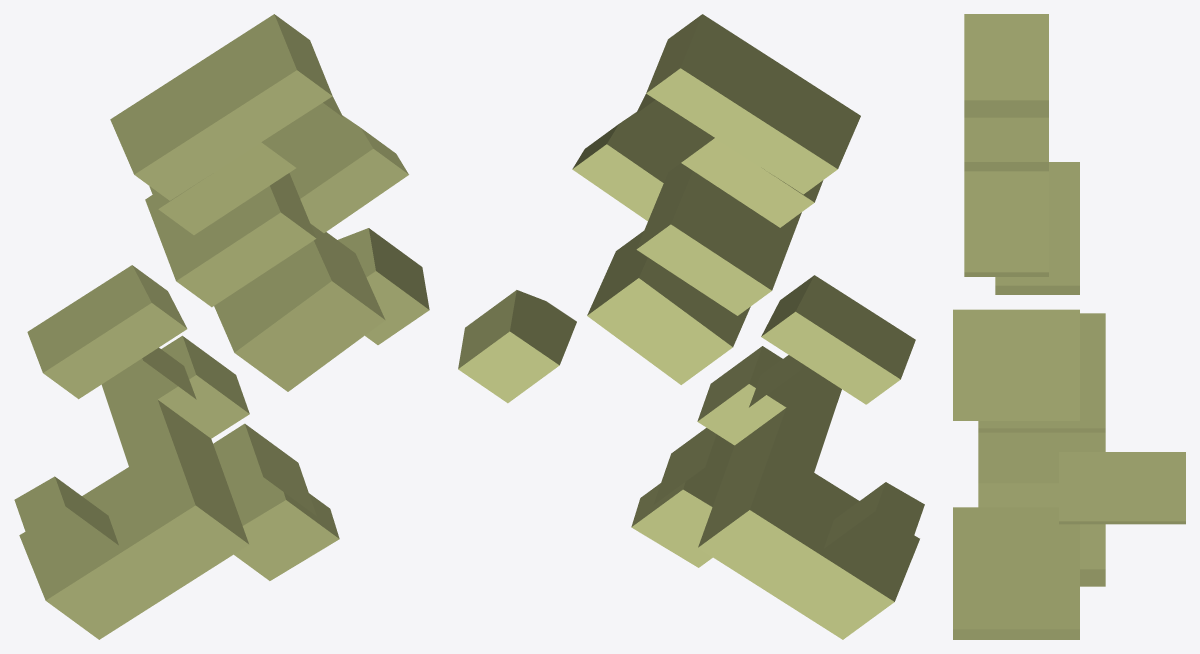
The picture shows the model from 3 angles, left to right: view 1: azimuth 30°, elevation 25°; view 2: azimuth 150°, elevation 25°; view 3: azimuth 270°, elevation 25°; orthographic projection. The views are drawn at different scales.
Parts seen in each view (by area): view 1: 0_0_1_2_0_0_3_0_3; view 2: 0_0_1_2_0_0_3_0_3; view 3: 0_0_1_2_0_0_3_0_3.
Boxes of the visible parts, bbox=[...] form: 0_0_1_2_0_0_3_0_3: bbox=[14, 14, 429, 639]; 0_0_1_2_0_0_3_0_3: bbox=[458, 14, 924, 639]; 0_0_1_2_0_0_3_0_3: bbox=[953, 14, 1185, 639].
Size of the model in its own units: 38.33 by 51.31 by 16.5.
